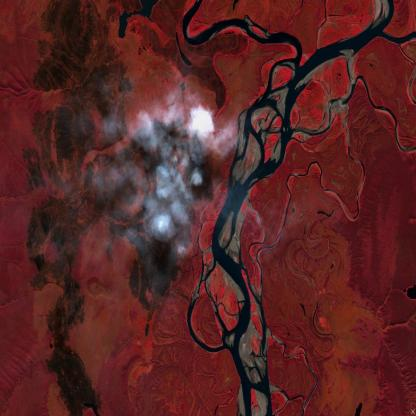fire: (147, 106, 218, 196)
